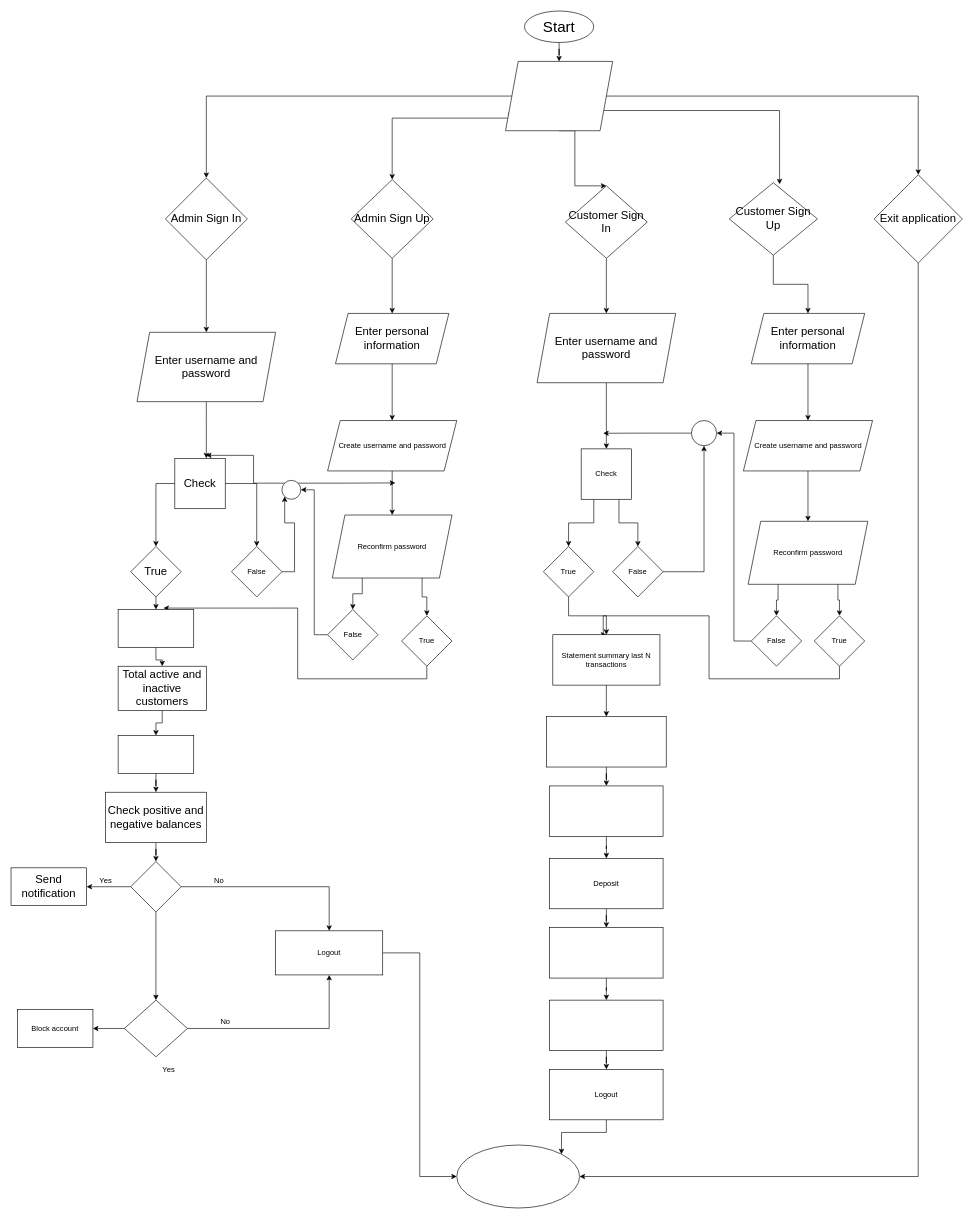
This 973x1219 diagram has some shape labels left out. The shapes that lost their labels are listed below. From the top down, each one's centre as x and y in pixels, then its label:
At pixel 559 96: "Choose mode".
At pixel 155 628: "Total customers".
At pixel 155 754: "Pay Monthly Rent".
At pixel 606 741: "Current Balance".
At pixel 606 810: "Withdraw".
At pixel 155 886: "Negative?".
At pixel 606 952: "Transfer to ther CID".
At pixel 155 1028: "Second time?".
At pixel 606 1025: "Check Inbox".
At pixel 518 1176: "END".
